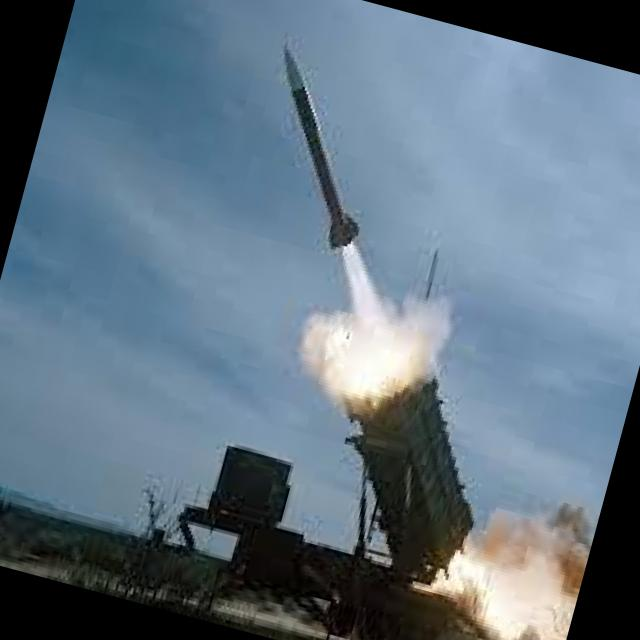rocket: (209, 40, 467, 346)
